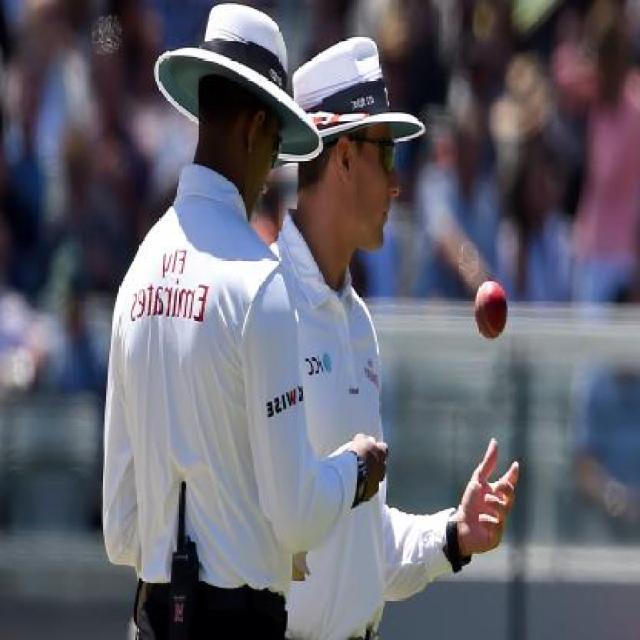ball: (422, 241, 554, 367)
